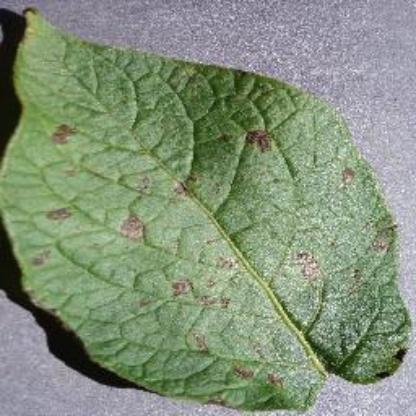Early-Blight: (4, 5, 412, 411)
